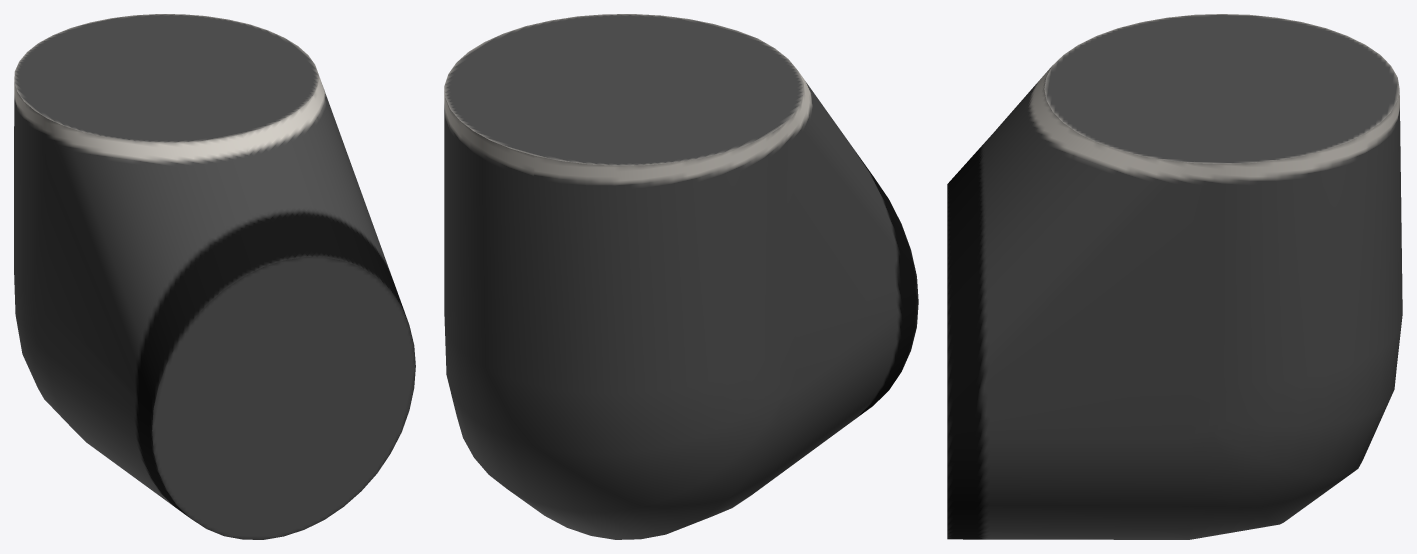
The model's file is wrist1.fbx.
3 views of the same model, side by side, from view 1: azimuth 30°, elevation 25°; view 2: azimuth 150°, elevation 25°; view 3: azimuth 270°, elevation 25° (orthographic). The views are drawn at different scales.
Visible parts, largest first — view 1: wrist1; view 2: wrist1; view 3: wrist1.
Part boxes in pixels (bbox=[...]): wrist1: bbox=[14, 14, 415, 539]; wrist1: bbox=[444, 14, 918, 539]; wrist1: bbox=[947, 14, 1402, 539].
Bounding box in the file's own units: 9.98 × 13.46 × 12.79.
